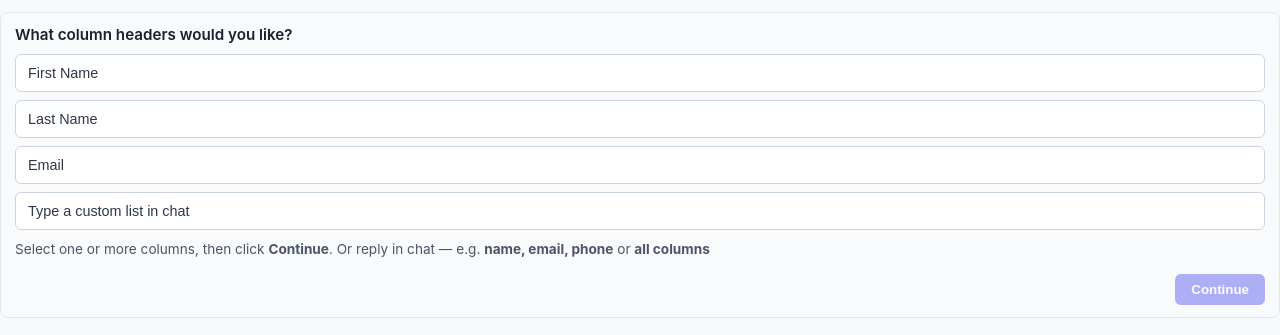
Test: PlannerClarificationPanel › pick_create_headers toggles selection off on second click
Click the button "First Name". click: (63, 73)
box: [15,54,1265,92]
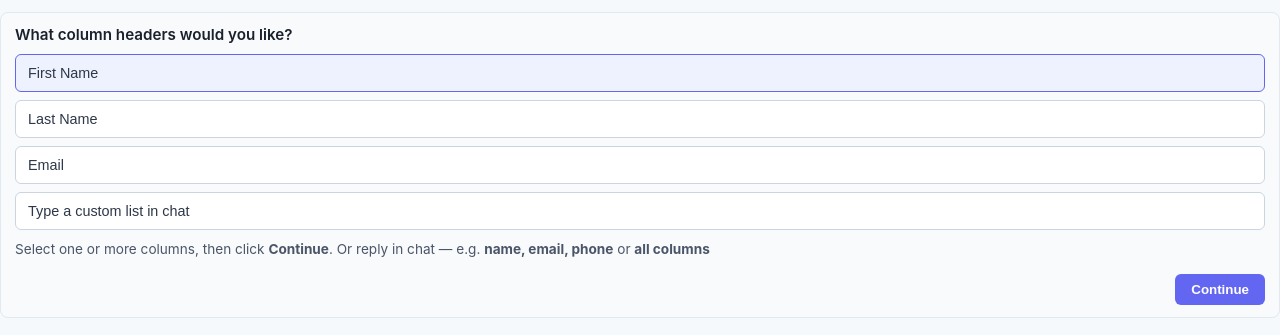
Click the button "First Name". click: (63, 73)
box: [15,54,1265,92]
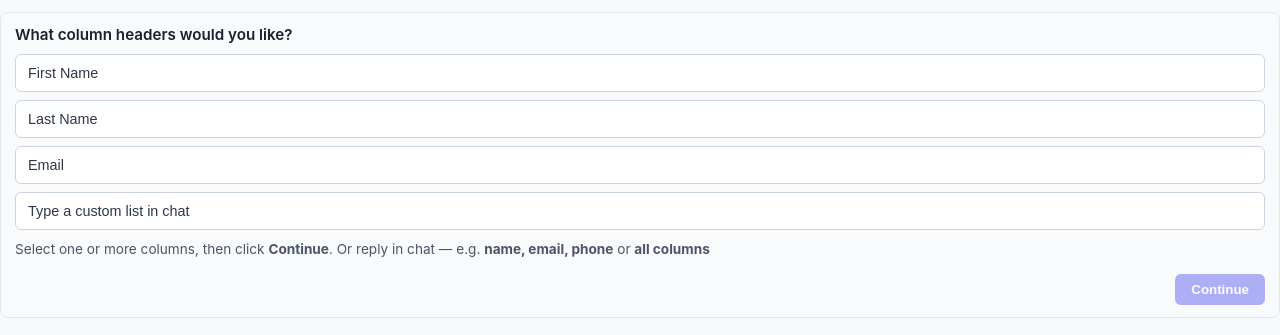
Expected: the button "Continue" is disabled, [1175,274,1265,305]
